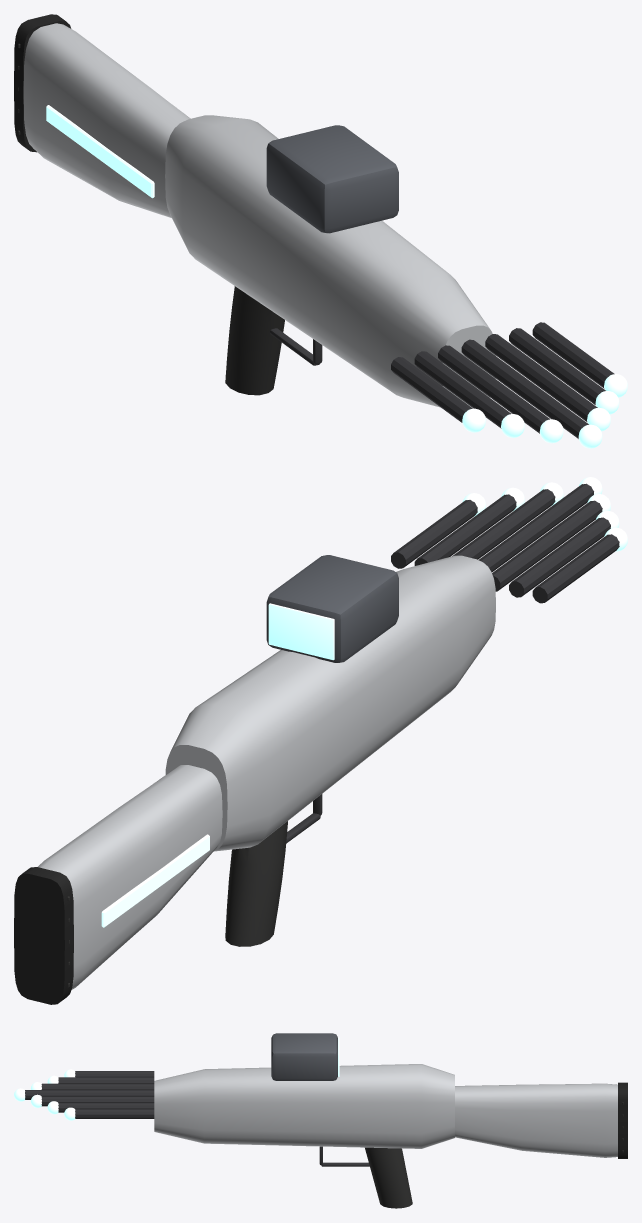
Rendered from ghostchaser.glb.
The picture shows the model from 3 angles, top to bottom: view 1: azimuth 30°, elevation 25°; view 2: azimuth 150°, elevation 25°; view 3: azimuth 270°, elevation 25°; orthographic projection. The views are drawn at different scales.
Visible parts, largest first — view 1: Body; view 2: Body; view 3: Body.
Part boxes in pixels (x1,y1,x2,y2): Body: [14, 14, 627, 448]; Body: [14, 477, 627, 1004]; Body: [14, 1033, 627, 1208].
Bounding box in the file's own units: 0.124 × 0.2129 × 0.735.
